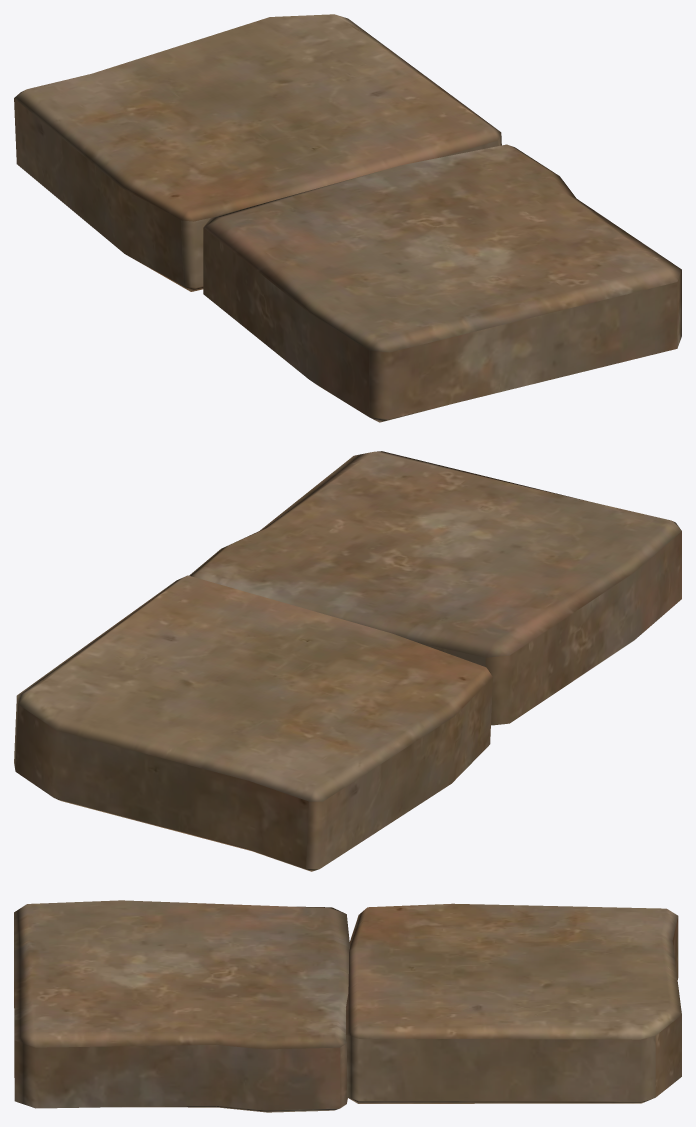
3 renders of one model, top to bottom at view 1: azimuth 30°, elevation 25°; view 2: azimuth 150°, elevation 25°; view 3: azimuth 270°, elevation 25°, orthographic. The views are drawn at different scales.
Visible parts, largest first — view 1: SM_AgilityPlatform_1x2_LOD0; view 2: SM_AgilityPlatform_1x2_LOD0; view 3: SM_AgilityPlatform_1x2_LOD0.
Part boxes in pixels (x1=…): SM_AgilityPlatform_1x2_LOD0: x1=14, y1=14, x2=681, y2=422; SM_AgilityPlatform_1x2_LOD0: x1=14, y1=451, x2=681, y2=871; SM_AgilityPlatform_1x2_LOD0: x1=14, y1=900, x2=681, y2=1112.
Size of the model in its own units: 1.06 by 0.2921 by 2.01.
1 material, 1 textured.
